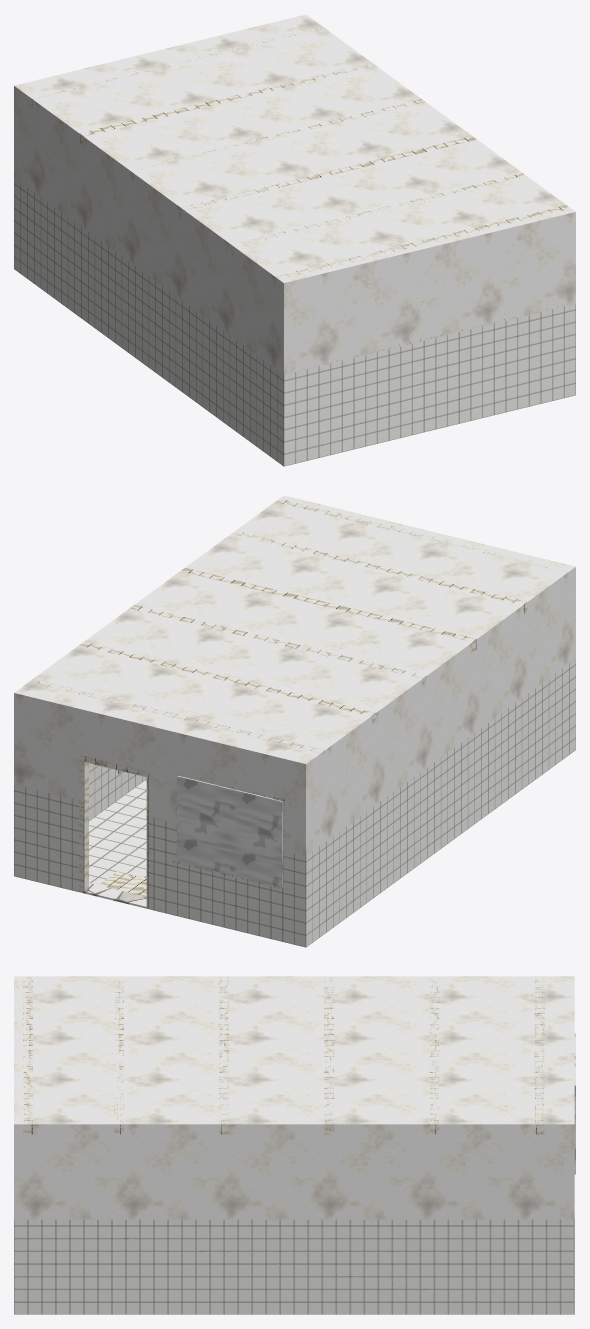
File: negozio_guscio.obj
The picture shows the model from 3 angles, top to bottom: view 1: azimuth 30°, elevation 25°; view 2: azimuth 150°, elevation 25°; view 3: azimuth 270°, elevation 25°; orthographic projection. The views are drawn at different scales.
Visible parts, largest first — view 1: intonaco_103, piastrelle_muro_100, intonaco_101, legno_104; view 2: intonaco_103, intonaco_101, piastrelle_muro_100, vetro_111, legno_104, legno_107, legno_110, pietra_108; view 3: intonaco_103, piastrelle_muro_100, intonaco_101, legno_104.
Boxes of the visible parts, x1,y1,x2,y2 form: intonaco_103: (14, 14, 575, 282); piastrelle_muro_100: (14, 177, 575, 466); intonaco_101: (14, 86, 575, 374); legno_104: (28, 26, 570, 288); intonaco_103: (14, 495, 575, 763); intonaco_101: (14, 567, 575, 855); piastrelle_muro_100: (14, 658, 575, 947); vetro_111: (177, 775, 282, 887); legno_104: (29, 498, 563, 762); legno_107: (79, 755, 284, 908); legno_110: (98, 871, 146, 896); pietra_108: (79, 883, 150, 908); intonaco_103: (14, 976, 574, 1124); piastrelle_muro_100: (14, 1219, 574, 1314); intonaco_101: (14, 1124, 574, 1219); legno_104: (23, 976, 544, 1134).
Size of the model in its own units: 5 by 3 by 8.02.
Materials: 125 (121 with a texture image).
